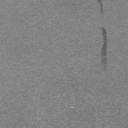red iron: (101, 27, 107, 64), (98, 0, 103, 14)
